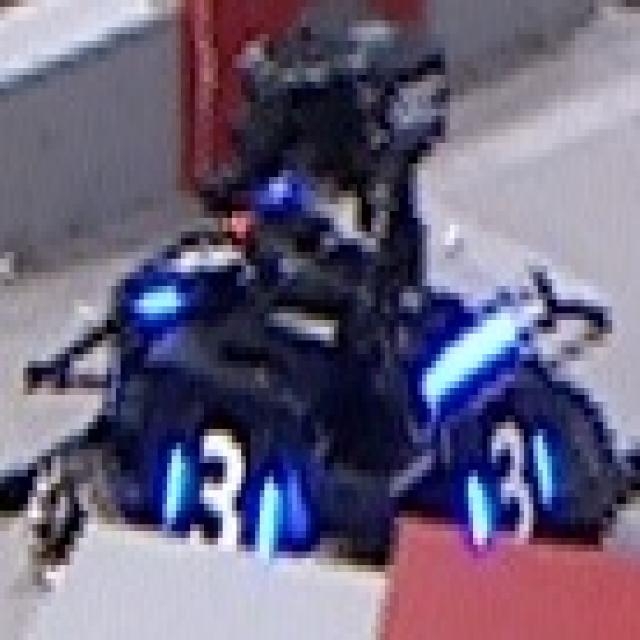B3: (158, 415, 288, 565), (459, 409, 571, 565), (116, 218, 241, 327)
